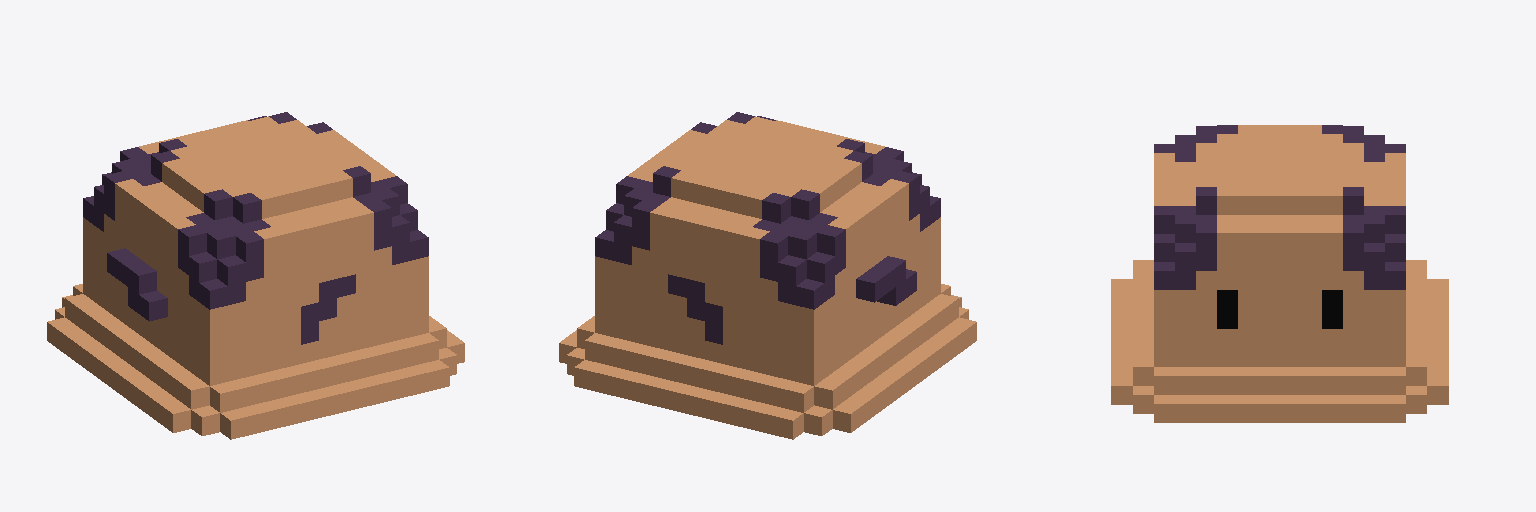
The picture shows the model from 3 angles: view 1: azimuth 30°, elevation 25°; view 2: azimuth 150°, elevation 25°; view 3: azimuth 270°, elevation 25°; orthographic projection.
Visible parts, largest first — view 1: object 1; view 2: object 1; view 3: object 1.
Boxes of the visible parts, x1,y1,x2,y2 form: object 1: [47, 112, 464, 439]; object 1: [559, 112, 976, 439]; object 1: [1111, 125, 1448, 422].
Size of the model in its own units: 1.6 by 1 by 1.6.
Materials: 1 (1 with a texture image).